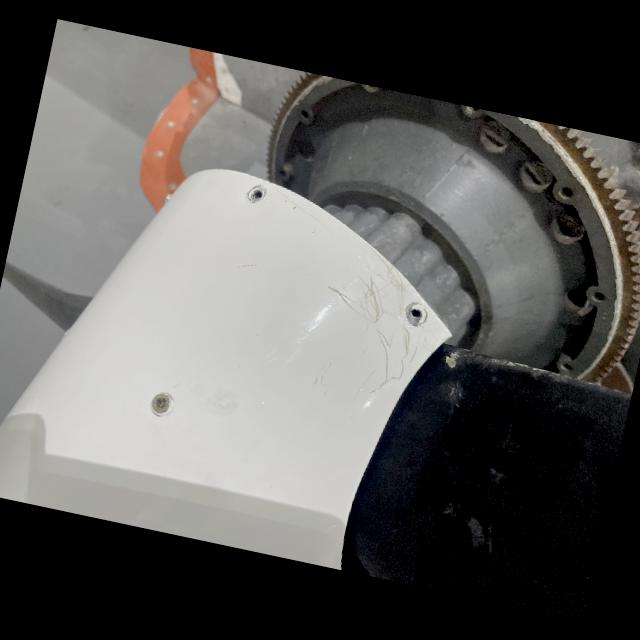Missing Fastener: (235, 182, 272, 216), (399, 299, 430, 326)
